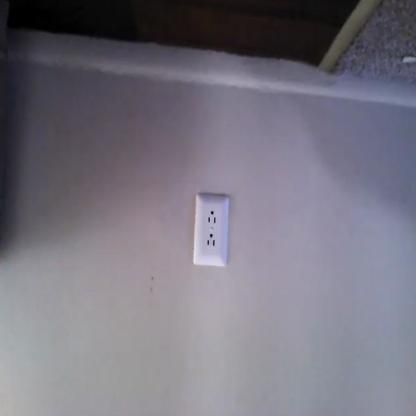OUTLET: (193, 193, 231, 267)
